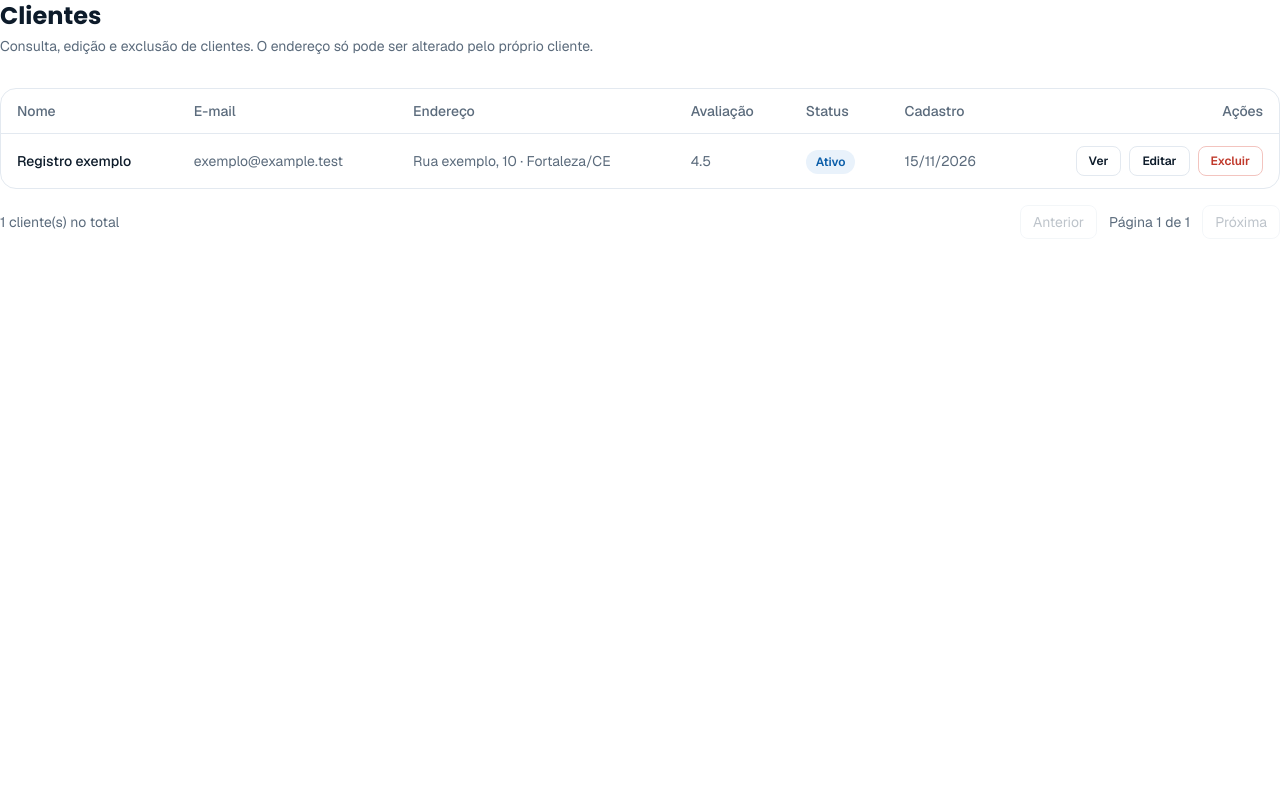
clients request lifecycle › handles deletion: status
Expected: the text "Registro exemplo" is shown, [1, 134, 178, 188]
Click the button "Excluir".
click(1230, 161)  # box [1198, 146, 1263, 176]
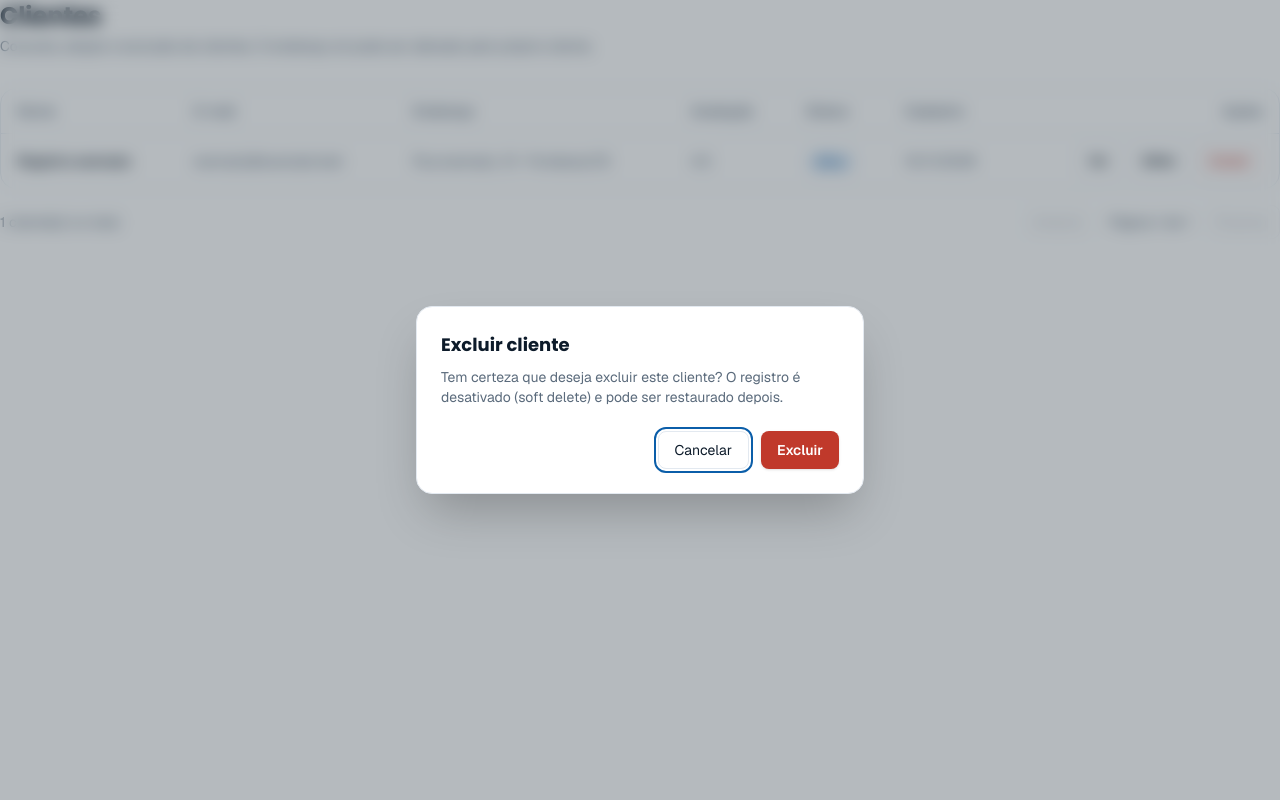
Click the button "Cancelar".
click(703, 450)  # box [658, 431, 749, 469]
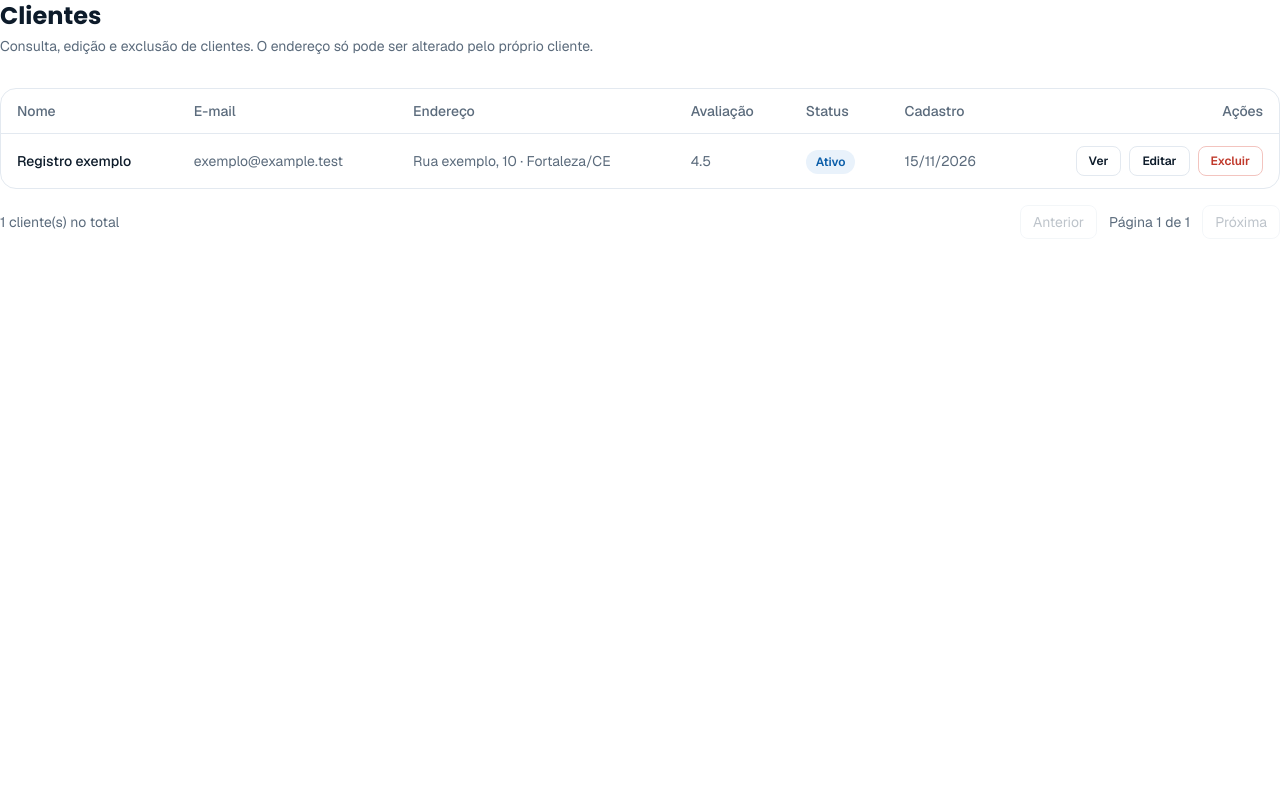
Click the button "Excluir".
click(1230, 161)  # box [1198, 146, 1263, 176]
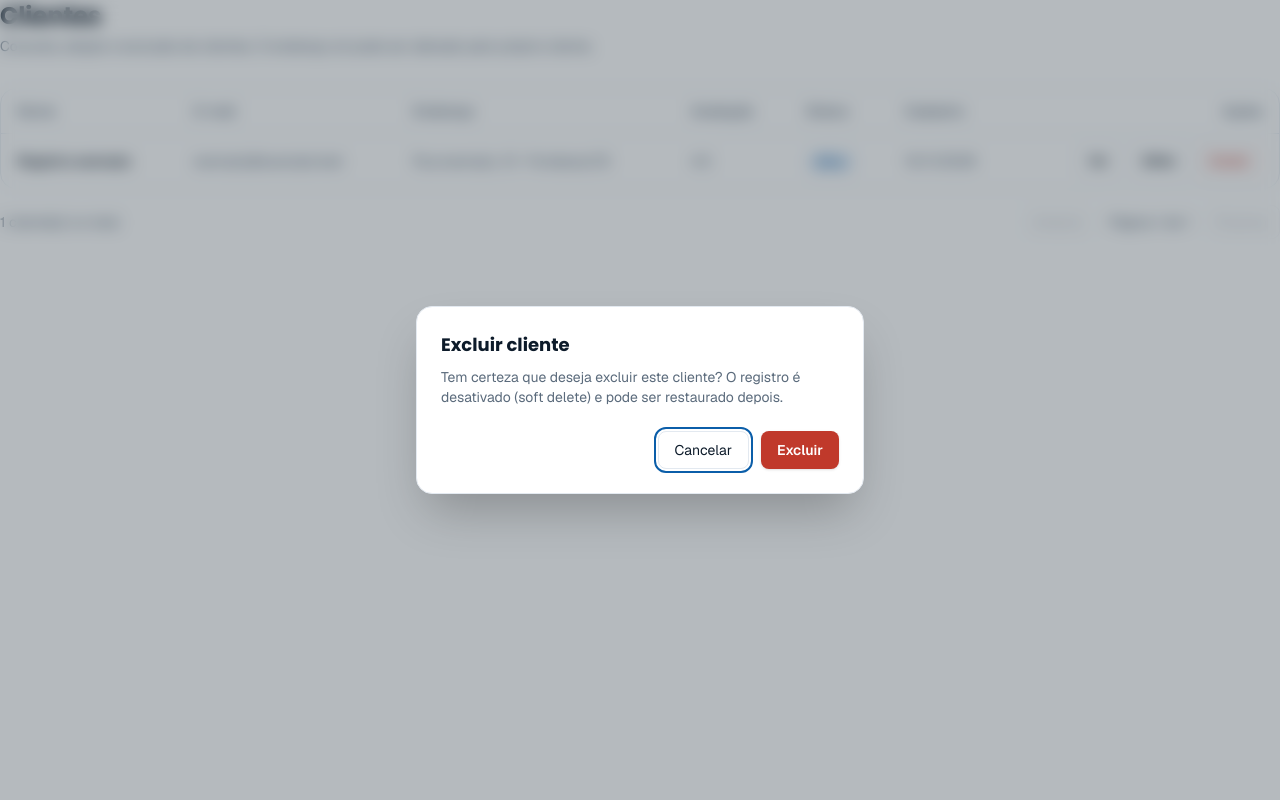
Click the button "Excluir".
click(800, 450)  # box [761, 431, 839, 469]
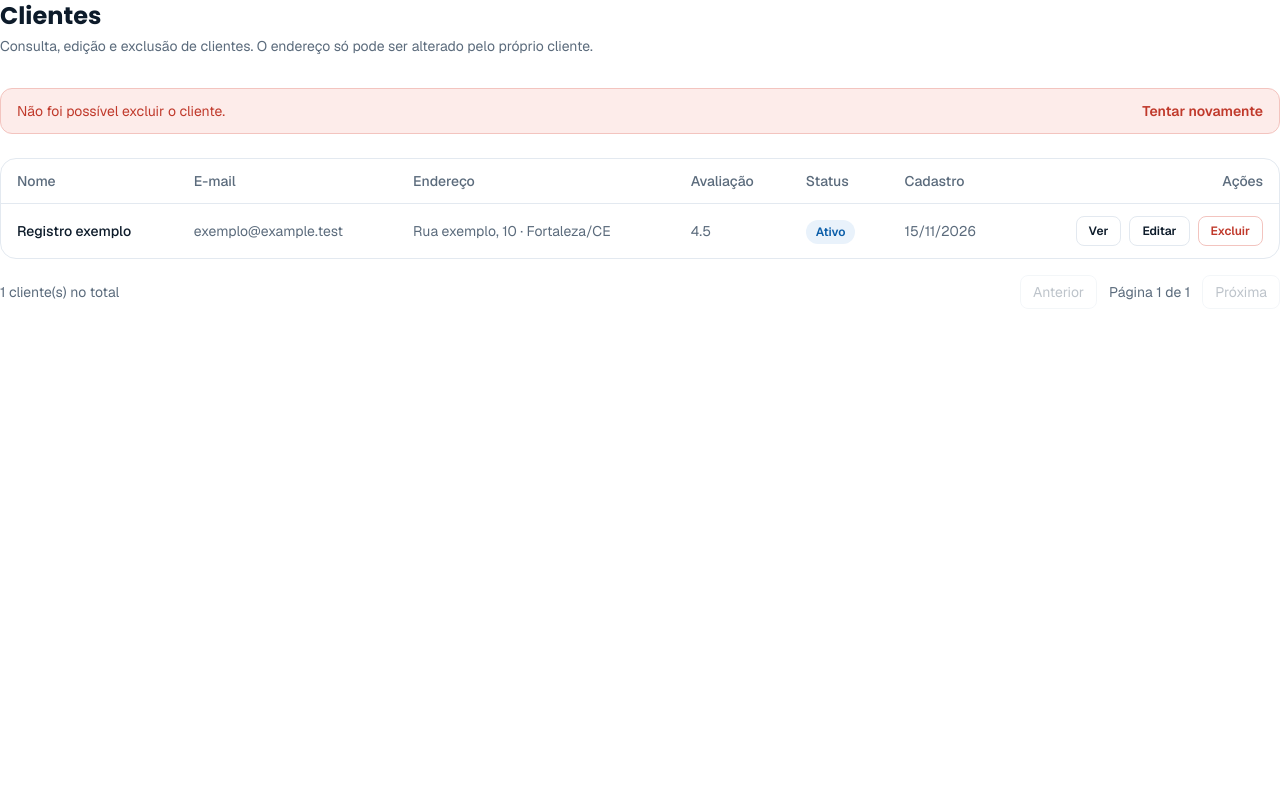
Expected: the text "Não foi possível excluir o cliente." is shown, [17, 101, 225, 121]
Expected: the dialog is gone
